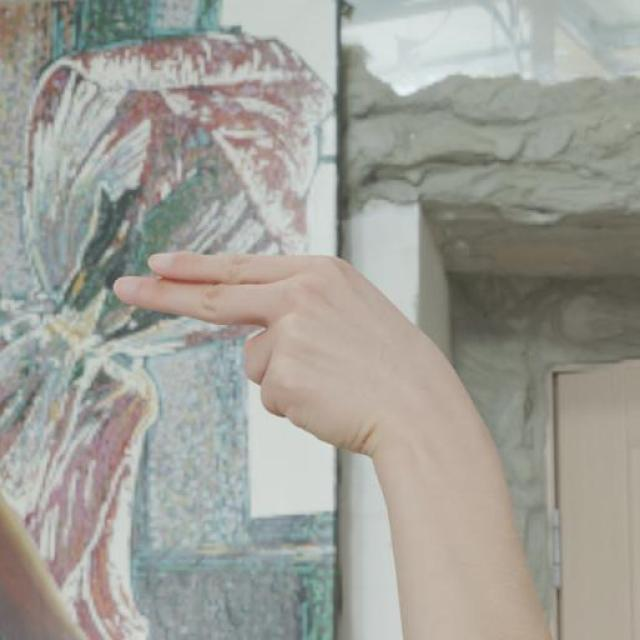H: (110, 248, 508, 454)
